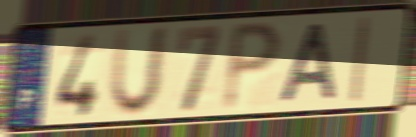4: (53, 30, 101, 120)
7: (175, 21, 225, 116)
A: (276, 20, 339, 106)
I: (347, 13, 373, 107)
P: (219, 19, 285, 114)
U: (106, 23, 172, 120)
